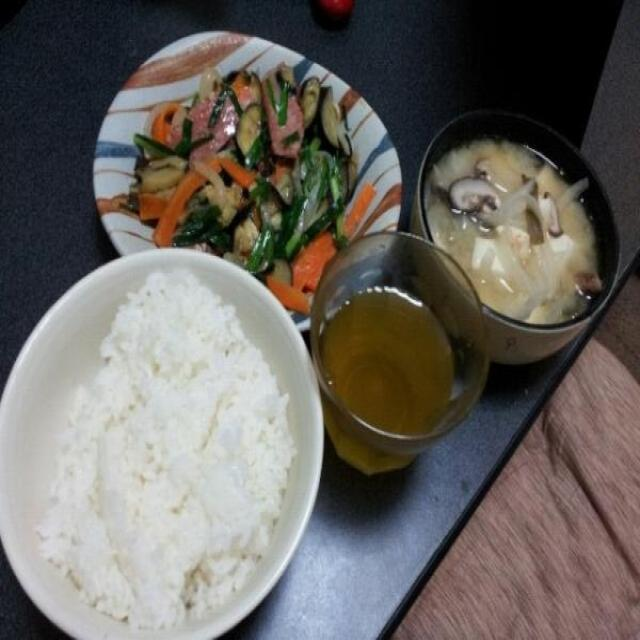Rice: (30, 263, 305, 640)
